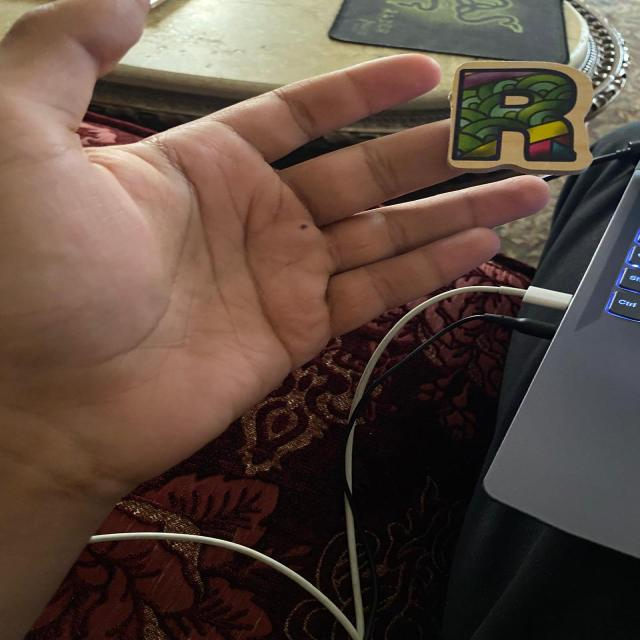R: (447, 60, 592, 174)
